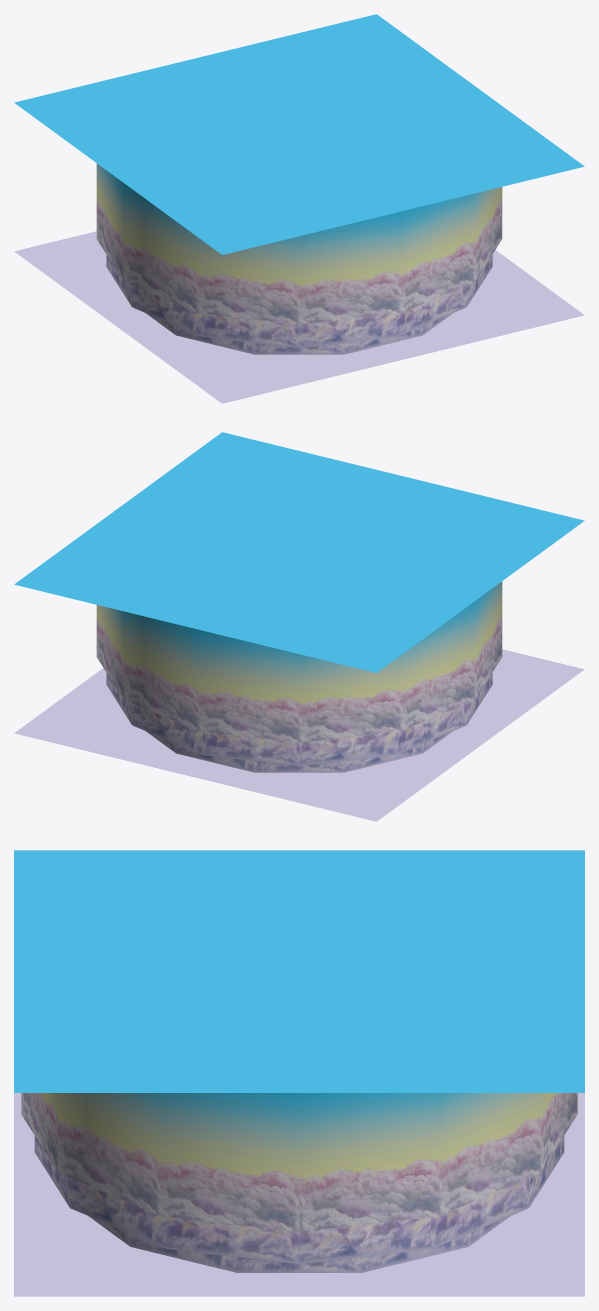
The model's file is HeroGarden.obj.
3 renders of one model, top to bottom at view 1: azimuth 30°, elevation 25°; view 2: azimuth 150°, elevation 25°; view 3: azimuth 270°, elevation 25°, orthographic. The views are drawn at different scales.
Visible parts, largest first — view 1: object_0176459C_attach_01764578, object_0176442C_attach_01764408, object_017640E4_attach_017640C0, object_0175FE7C_attach_0175FE58, object_017602D4_attach_017602B0; view 2: object_0176459C_attach_01764578, object_0176442C_attach_01764408, object_017640E4_attach_017640C0, object_0175FE7C_attach_0175FE58, object_017602D4_attach_017602B0; view 3: object_0176459C_attach_01764578, object_0176442C_attach_01764408, object_017640E4_attach_017640C0, object_0175FE7C_attach_0175FE58, object_017602D4_attach_017602B0.
Boxes of the visible parts, left/top/right/bottom form: object_0176459C_attach_01764578: left=14, top=14, right=584, bottom=254; object_0176442C_attach_01764408: left=96, top=163, right=502, bottom=324; object_017640E4_attach_017640C0: left=14, top=231, right=584, bottom=403; object_0175FE7C_attach_0175FE58: left=106, top=255, right=492, bottom=347; object_017602D4_attach_017602B0: left=146, top=313, right=452, bottom=354; object_0176459C_attach_01764578: left=14, top=432, right=584, bottom=672; object_0176442C_attach_01764408: left=96, top=581, right=502, bottom=742; object_017640E4_attach_017640C0: left=14, top=649, right=584, bottom=821; object_0175FE7C_attach_0175FE58: left=106, top=673, right=492, bottom=765; object_017602D4_attach_017602B0: left=146, top=731, right=452, bottom=772; object_0176459C_attach_01764578: left=14, top=850, right=584, bottom=1092; object_0176442C_attach_01764408: left=21, top=1093, right=577, bottom=1231; object_017640E4_attach_017640C0: left=14, top=1093, right=584, bottom=1296; object_0175FE7C_attach_0175FE58: left=34, top=1136, right=564, bottom=1264; object_017602D4_attach_017602B0: left=89, top=1216, right=509, bottom=1272.
Bounding box in the file's own units: 2470 × 968 × 2457.
Materials: 50 (50 with a texture image).
